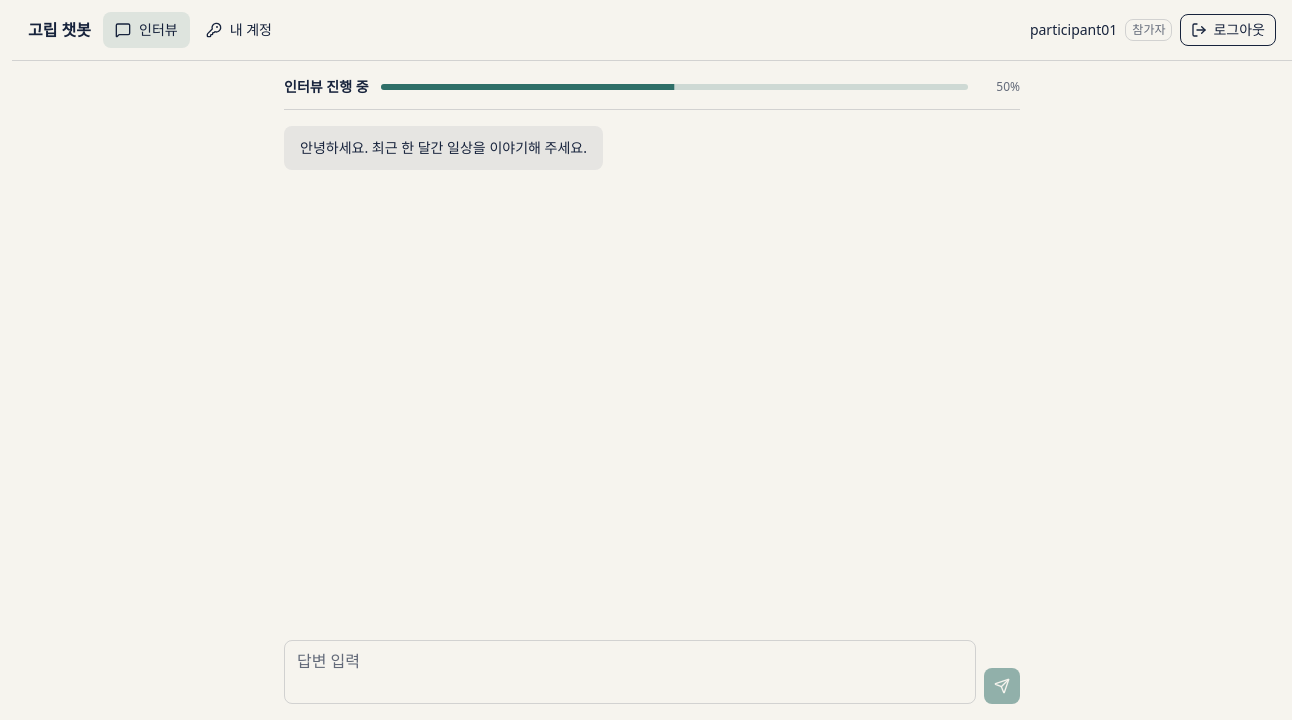
Scenario: complete application route tree › logs out from the complete participant route tree
Expected: the heading "인터뷰 진행 중" is shown, [284,77,369,97]
Click the button "로그아웃". click: click(1228, 30)
box: [1180,14,1276,46]
(page scrolled)
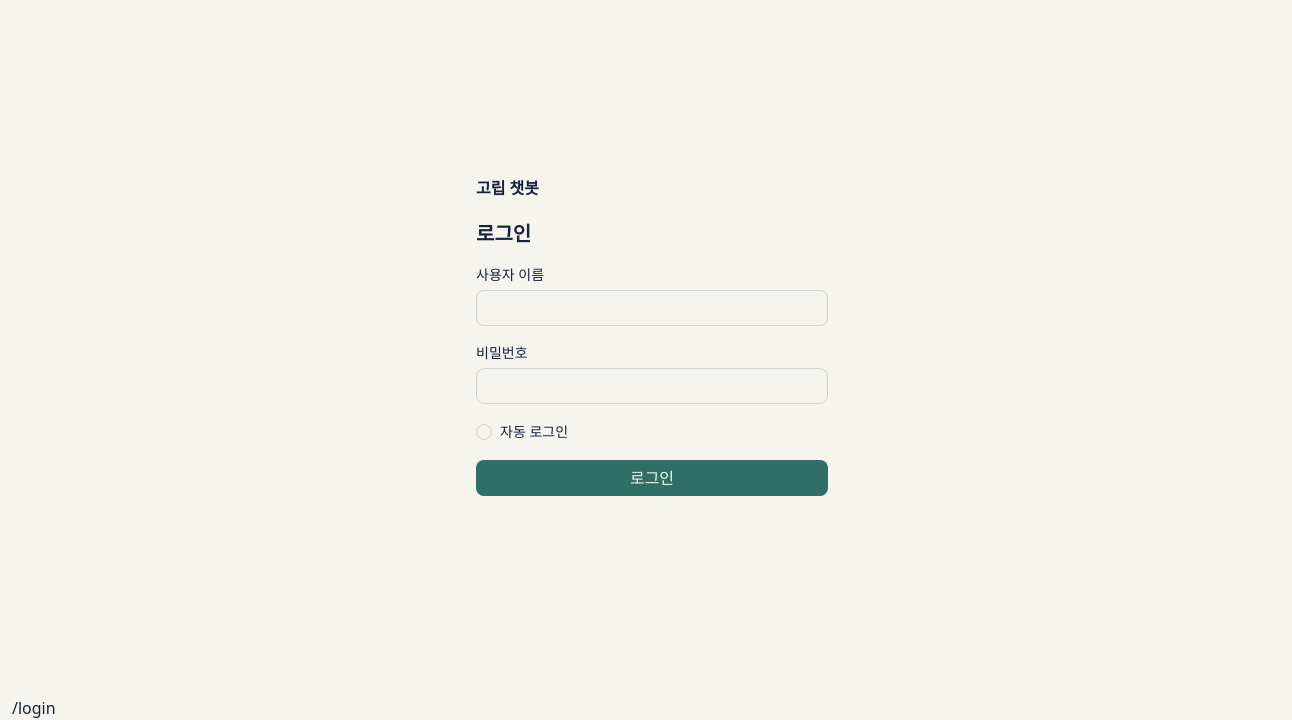
Expected: the heading "로그인" is shown, [476,220,531,247]
Expected: the text with test id "location-path" reads "/login", [12,697,56,719]
